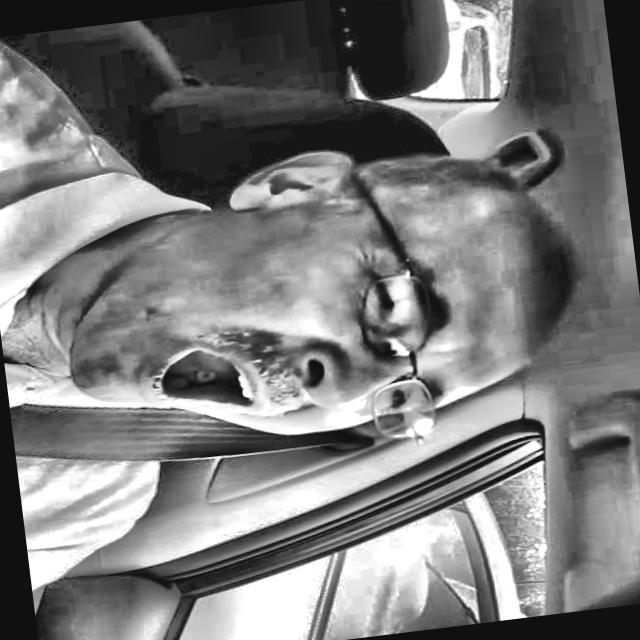closed_eyes: (340, 248, 414, 349), (368, 373, 422, 437)
open_mouth: (115, 317, 287, 436)
